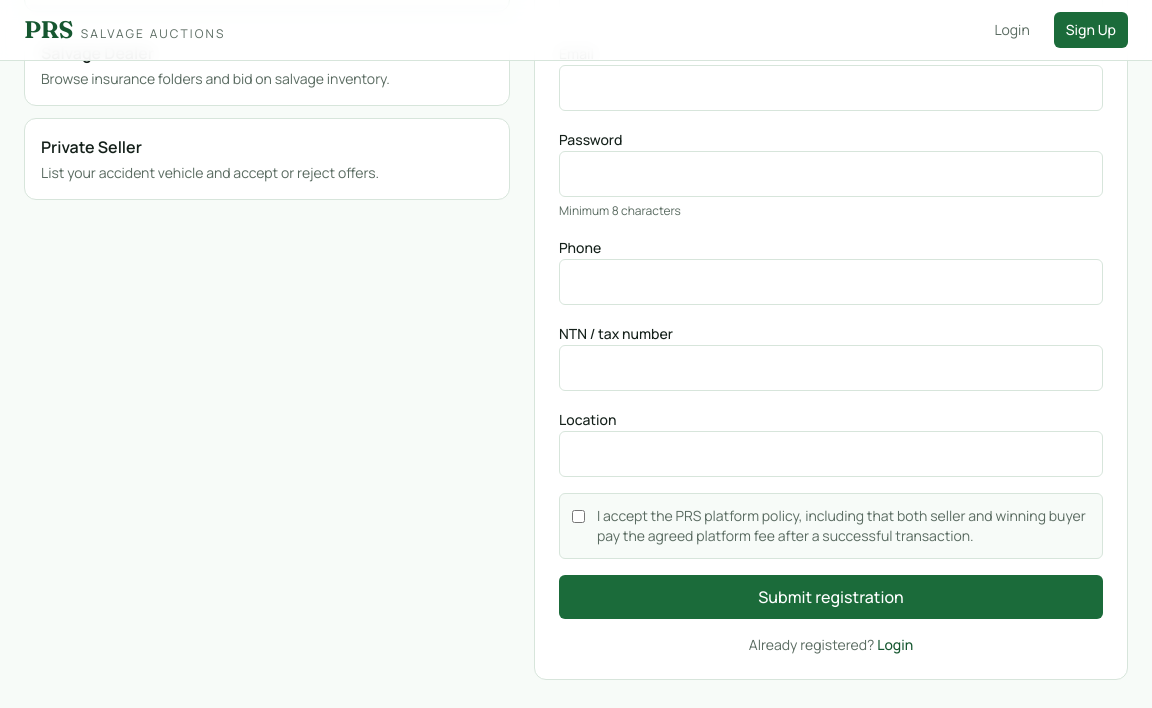
Scenario: RegisterPage form validation › shows per-field errors for empty insurance form
(page scrolled)
Click the button "Submit registration" at (831, 597), box [559,575,1103,619]
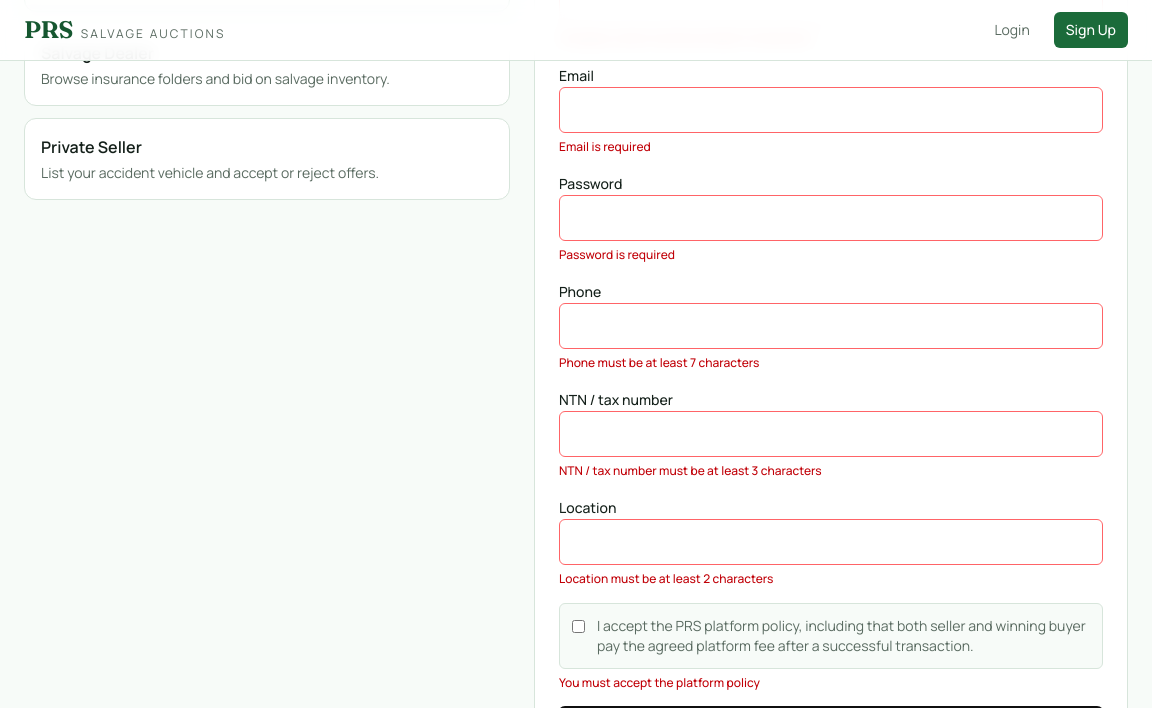
Check: the text "Email is required" is shown, box [559,138,651,155]
Check: the text "Password is required" is shown, box [559,246,675,263]
Check: the text "Phone must be at least 7 characters" is shown, box [559,354,760,371]
